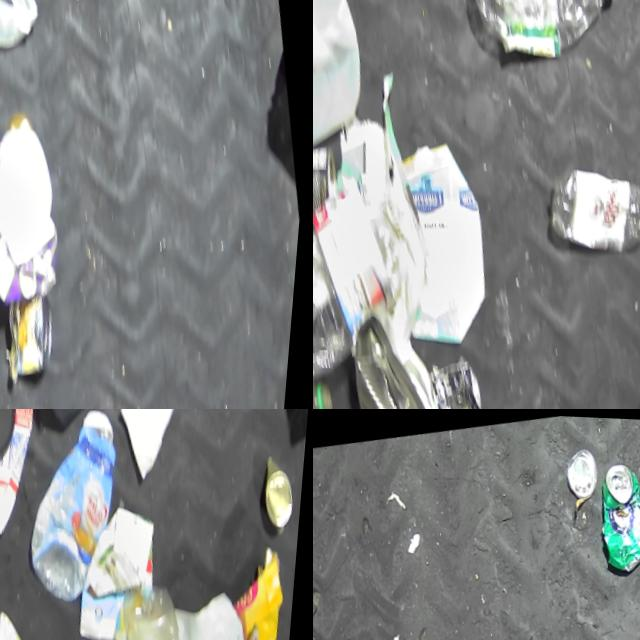can: (343, 299, 478, 409), (590, 454, 640, 572), (255, 444, 311, 535), (430, 351, 500, 409), (313, 139, 350, 225), (0, 588, 58, 640), (561, 443, 603, 498)
milk_jug: (313, 0, 384, 161)
plastic_bottle: (313, 205, 426, 382), (455, 0, 633, 68), (543, 146, 640, 257)
